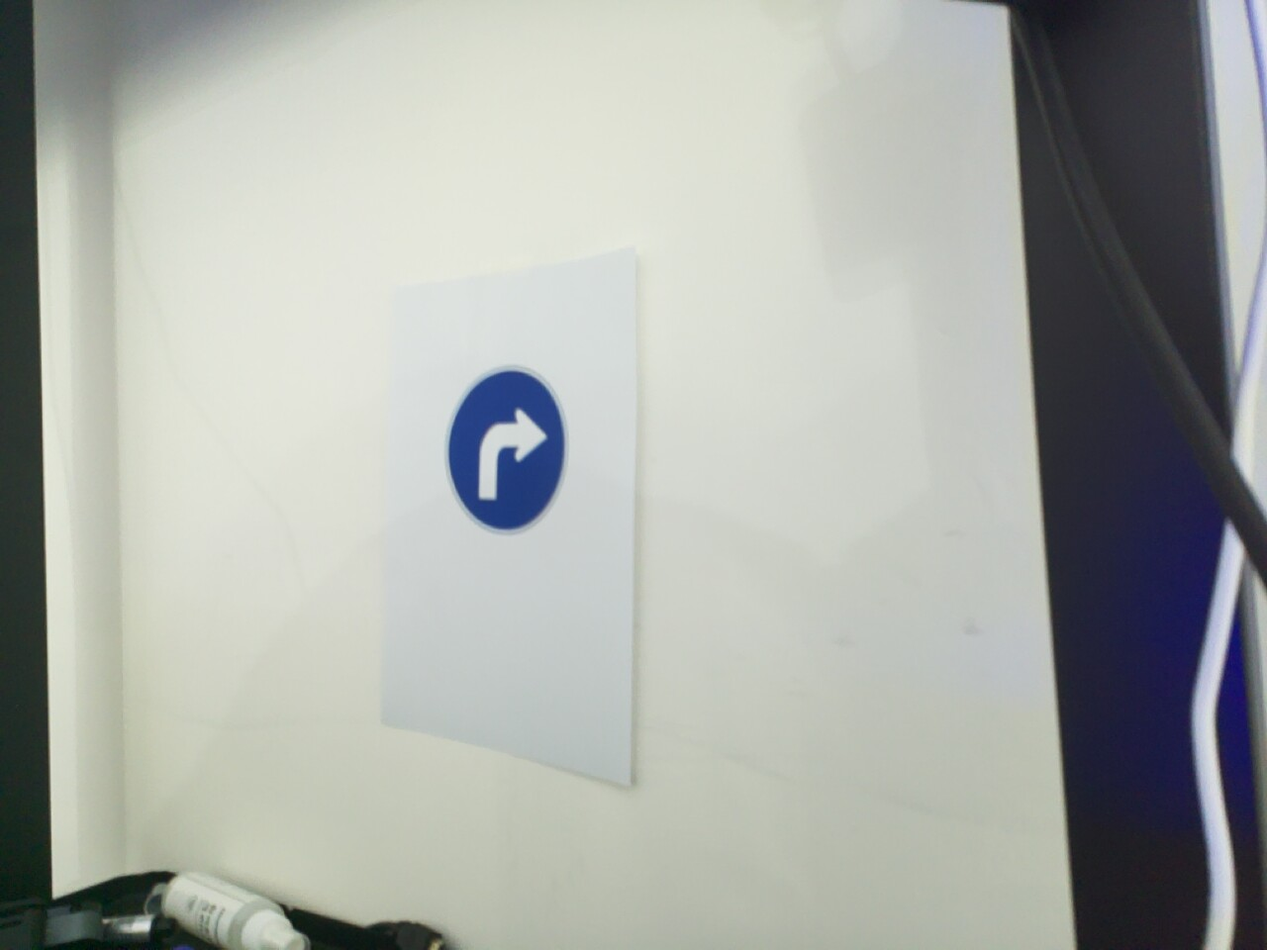right_turn: (442, 364, 571, 536)
